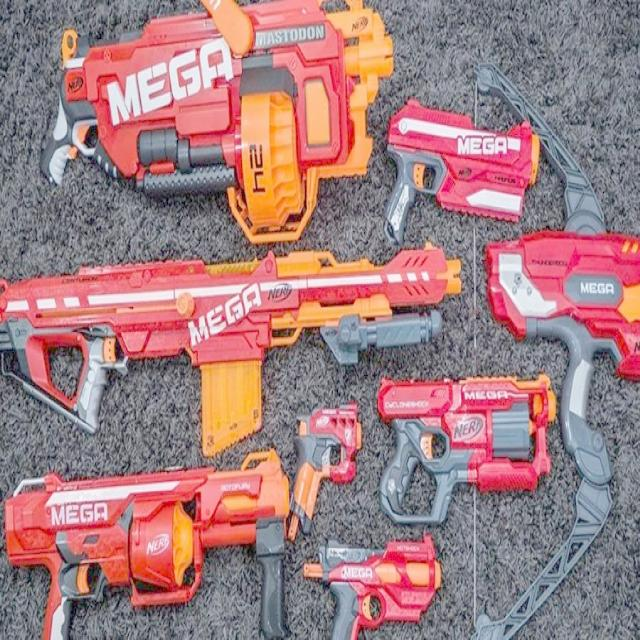Nerf gun: (2, 248, 463, 461), (38, 0, 407, 252), (3, 443, 290, 638), (477, 187, 639, 416), (372, 360, 560, 539), (377, 87, 542, 250), (294, 528, 446, 638), (283, 392, 373, 540)
